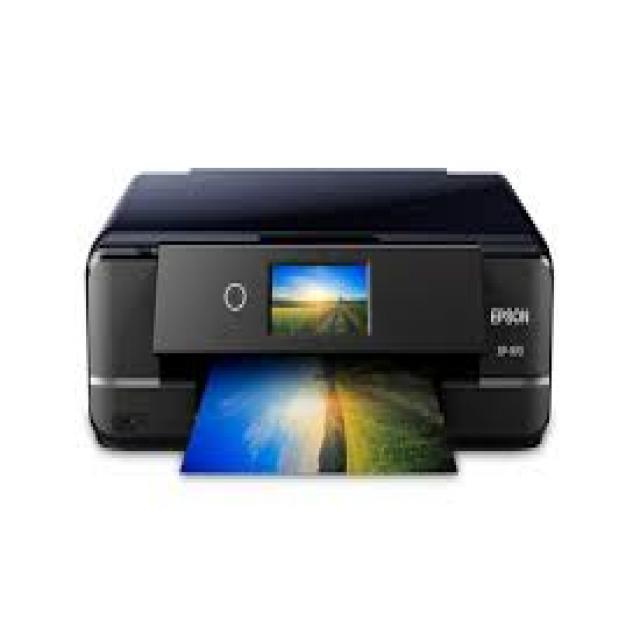printer: (59, 110, 608, 523)
